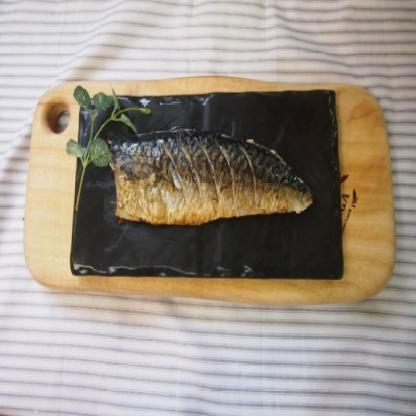Peixe: (97, 126, 317, 239)
